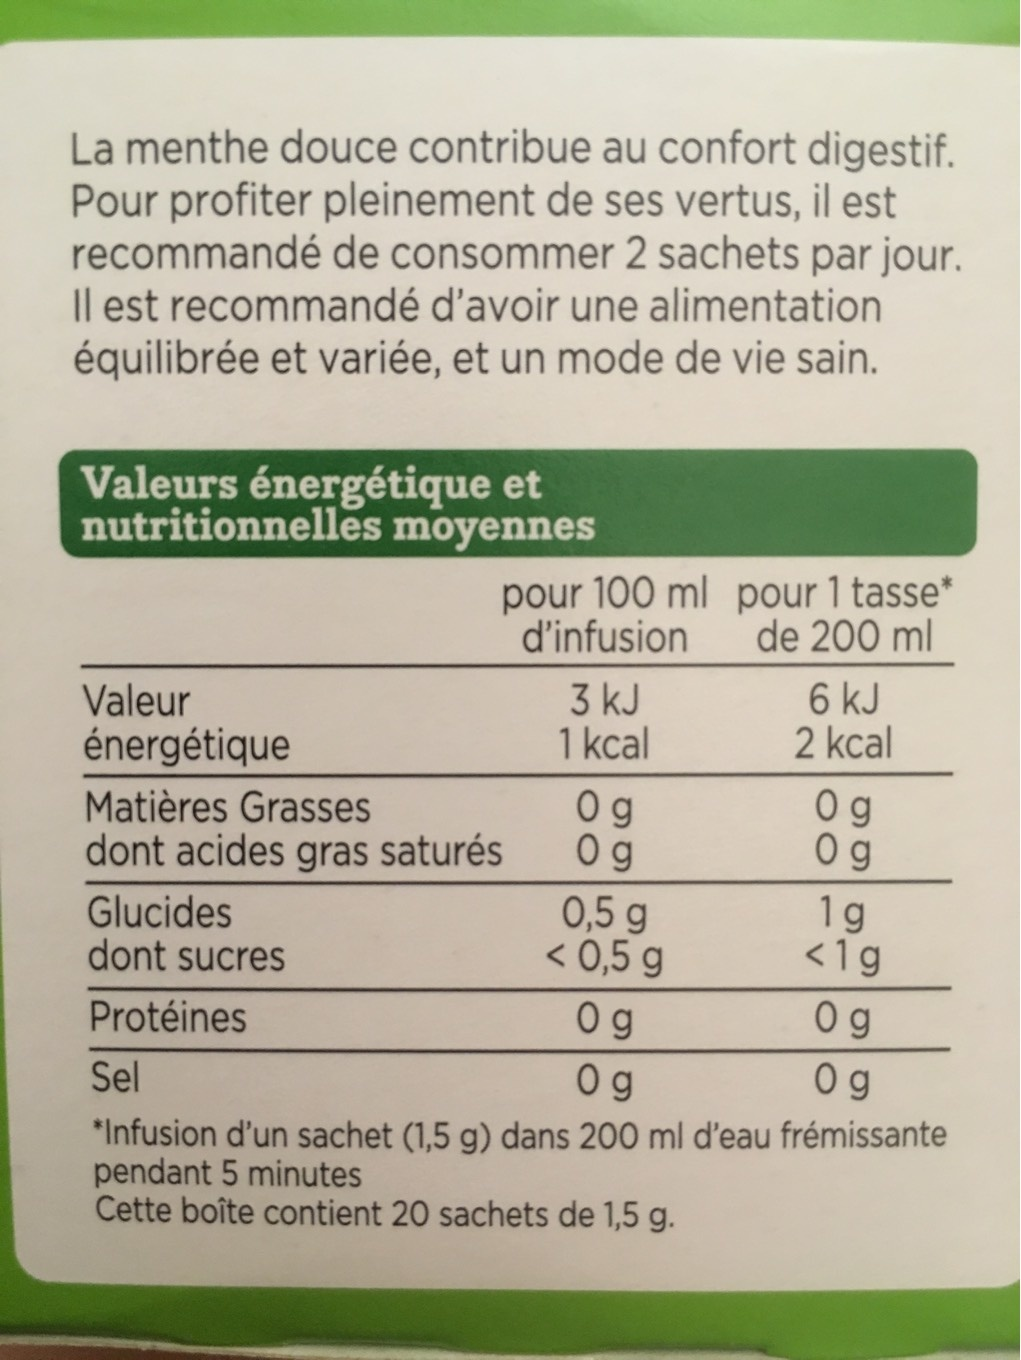column: (91, 668, 501, 1112), (541, 668, 666, 1112), (778, 666, 899, 1117)
table: (55, 450, 982, 1118)
